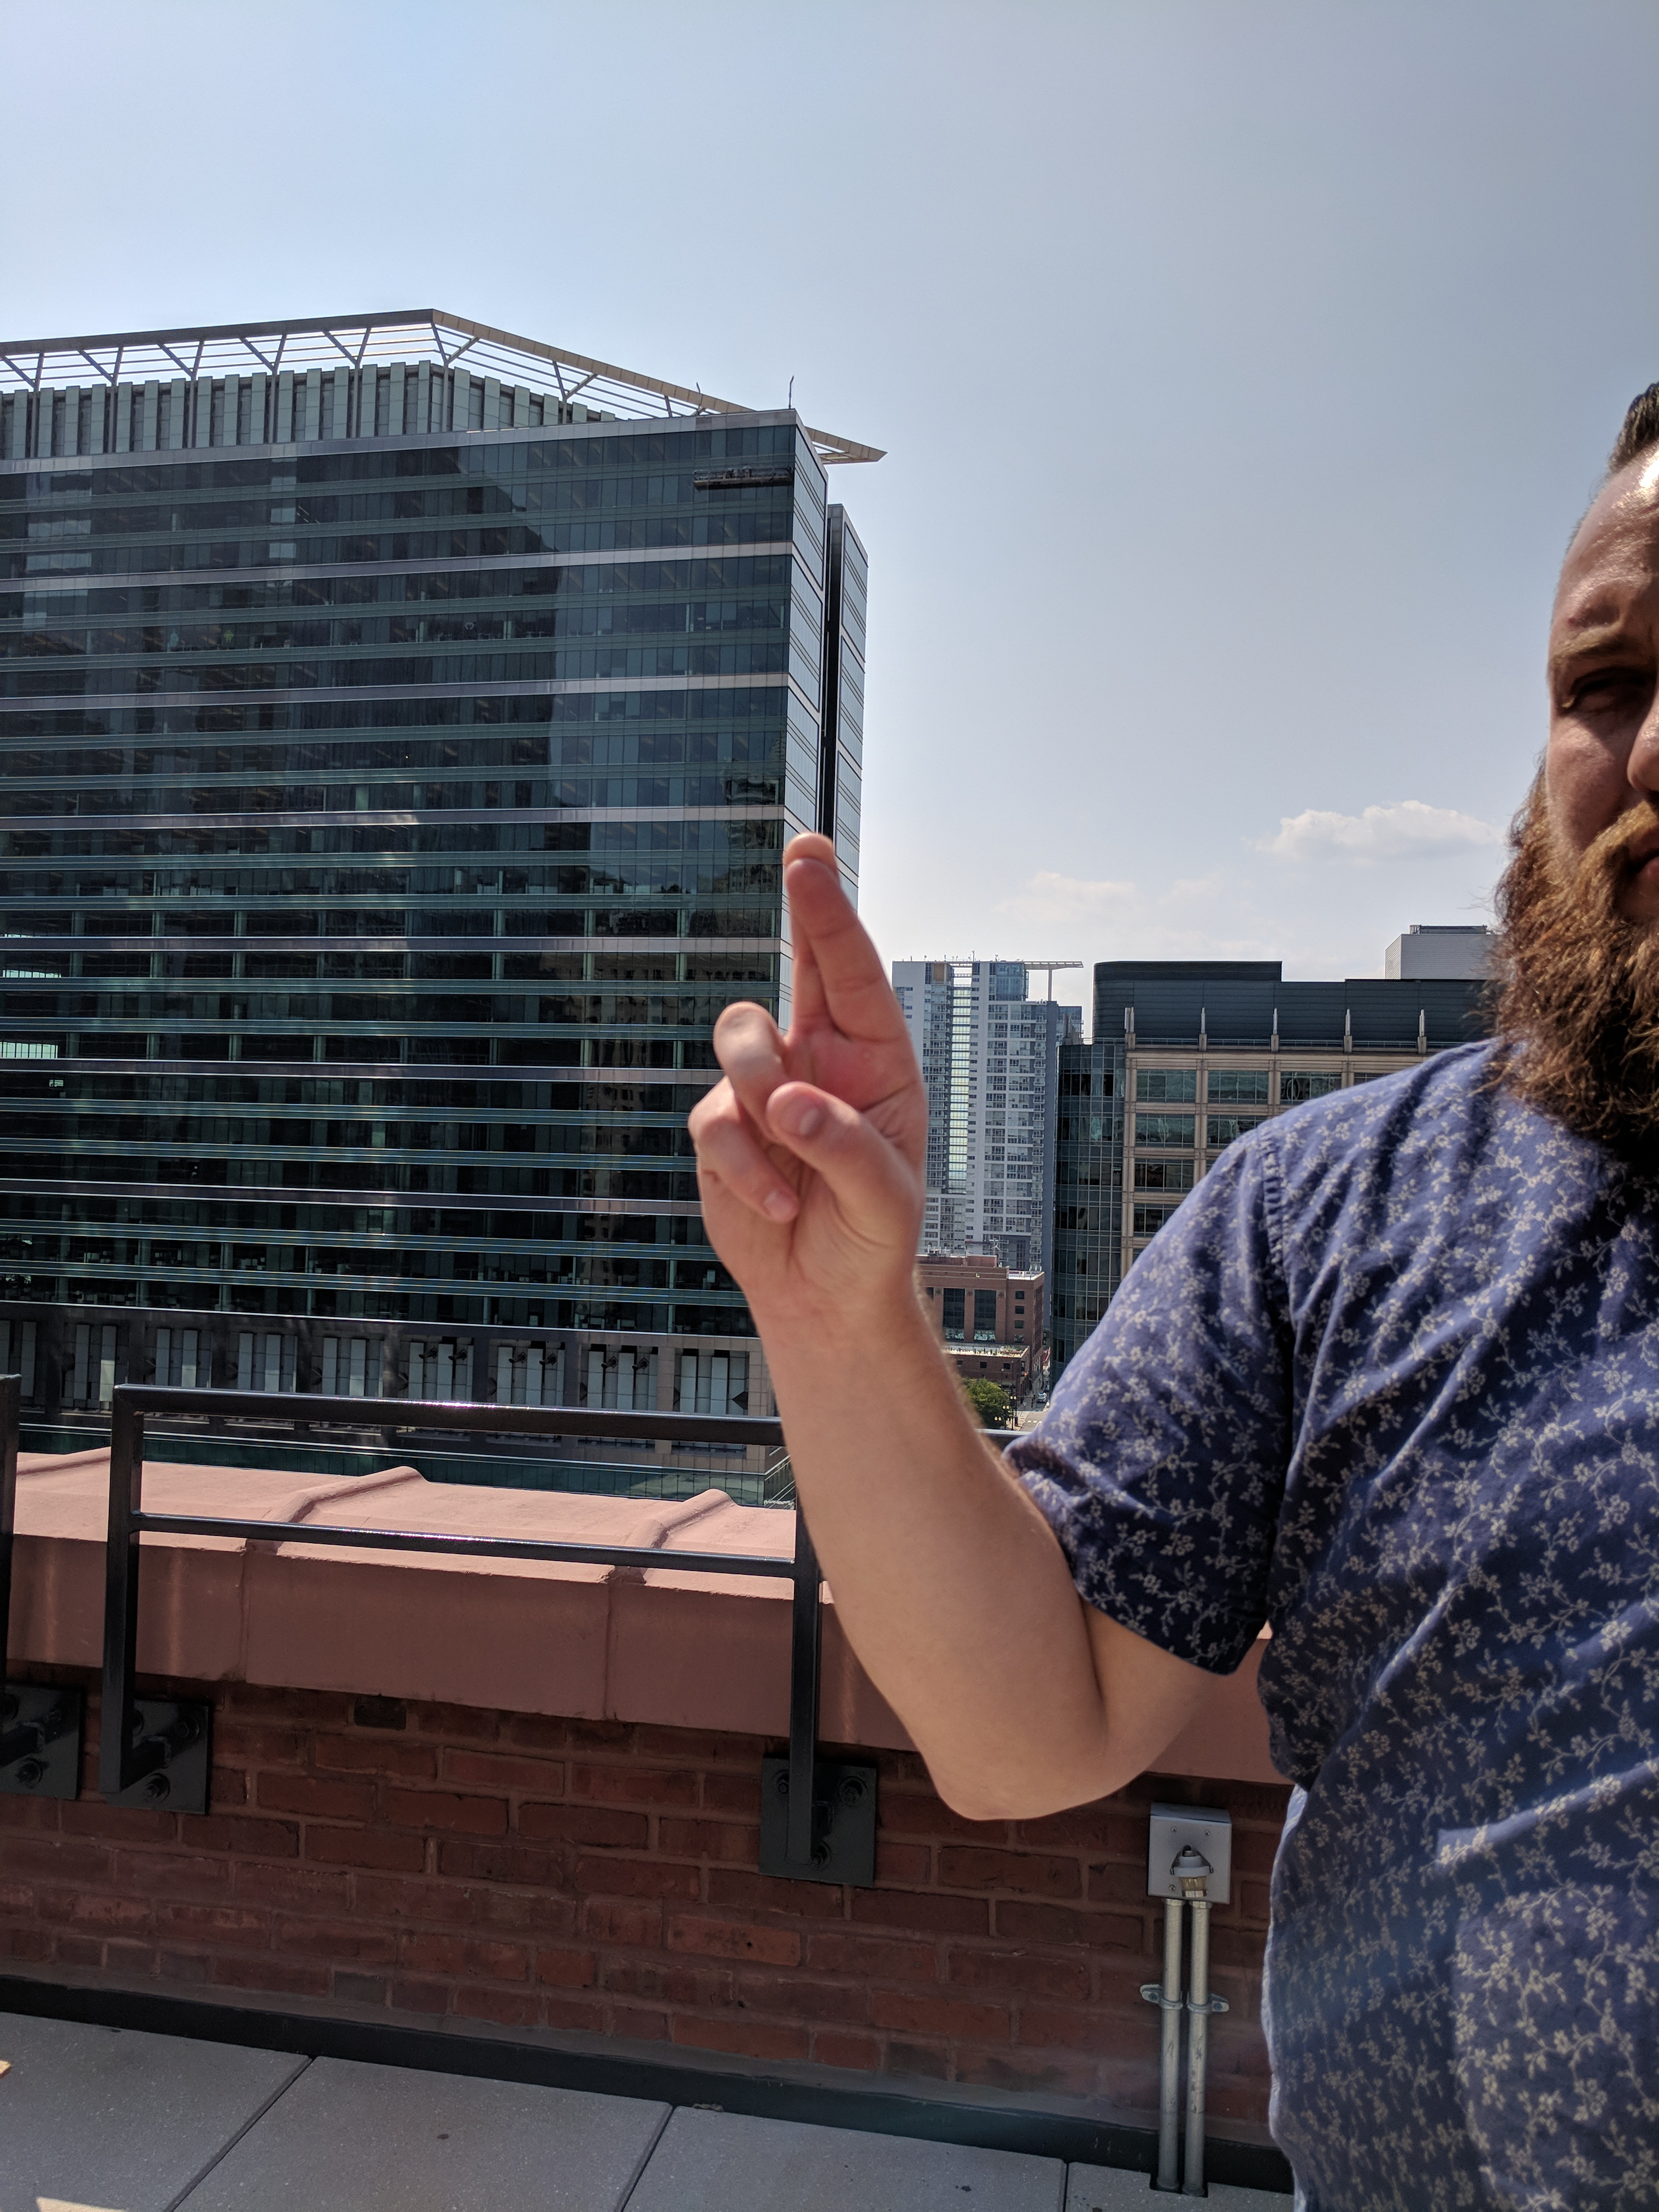r: (685, 824, 962, 1315)
